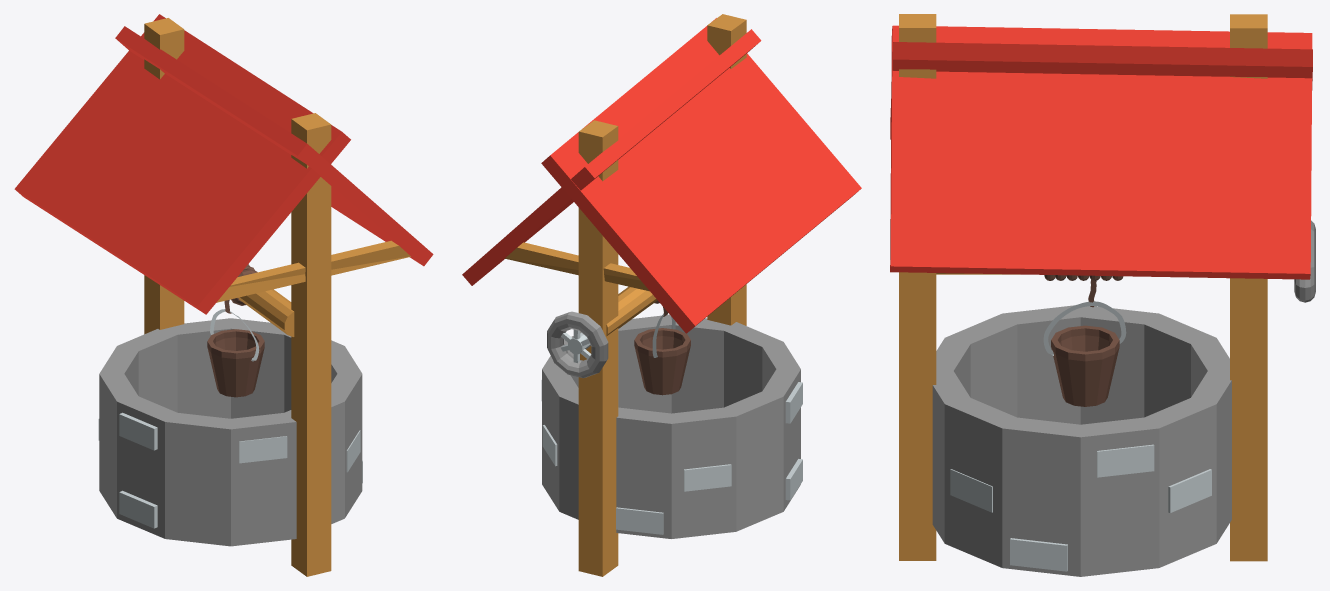
Rendered from Well.glb.
3 views of the same model, side by side, from view 1: azimuth 30°, elevation 25°; view 2: azimuth 150°, elevation 25°; view 3: azimuth 270°, elevation 25° (orthographic). The views are drawn at different scales.
Parts seen in each view (by area): view 1: Node; view 2: Node; view 3: Node.
Part boxes in pixels (x1,y1,x2,y2): Node: (14, 14, 433, 576); Node: (462, 14, 861, 576); Node: (890, 14, 1315, 576).
Bounding box in the file's own units: 0.5874 × 1.04 × 0.7459.
